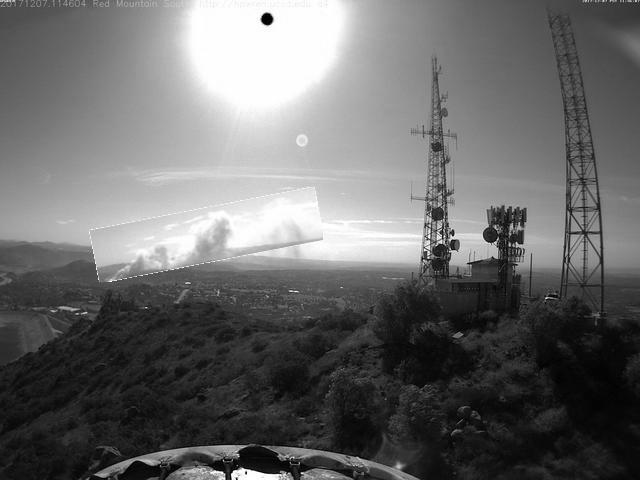smoke: (92, 199, 324, 274)
